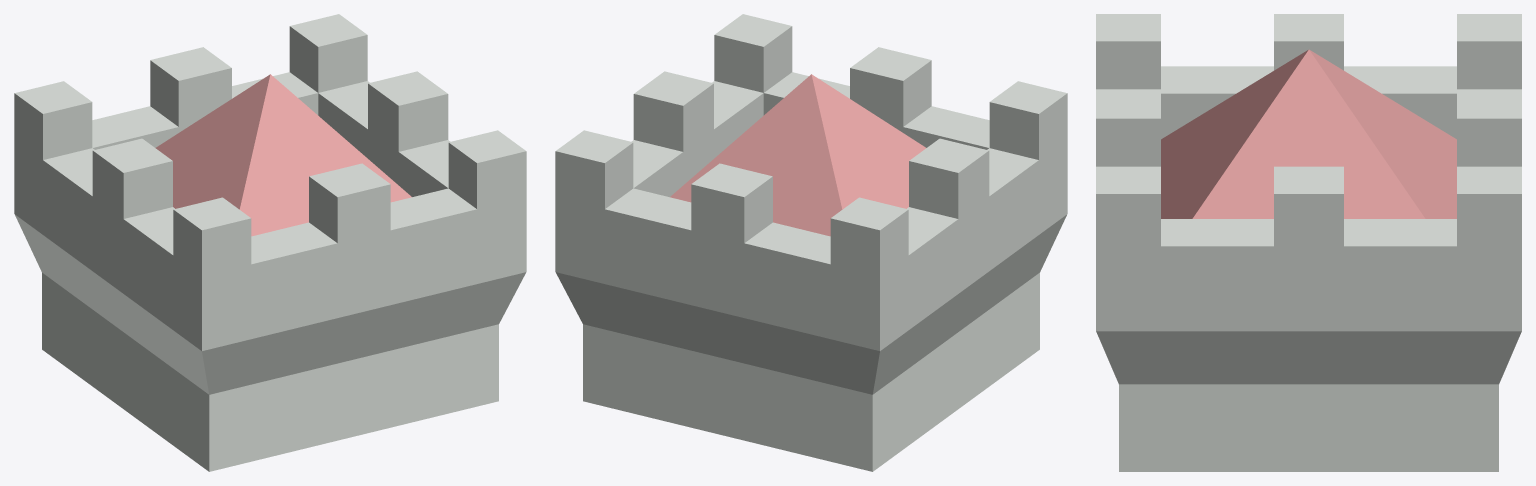
File: tower-defense-classic--tile-006.glb
The picture shows the model from 3 angles, left to right: view 1: azimuth 30°, elevation 25°; view 2: azimuth 150°, elevation 25°; view 3: azimuth 270°, elevation 25°; orthographic projection. The views are drawn at different scales.
Visible parts, largest first — view 1: tile_006, Group; view 2: tile_006, Group; view 3: tile_006, Group.
Part boxes in pixels (x1,y1,x2,y2): tile_006: (14, 14, 526, 471); Group: (155, 74, 411, 236); tile_006: (555, 14, 1067, 471); Group: (670, 74, 926, 236); tile_006: (1096, 14, 1521, 471); Group: (1161, 49, 1456, 218).
Bounding box in the file's own units: 0.6609 × 0.586 × 0.6609.
